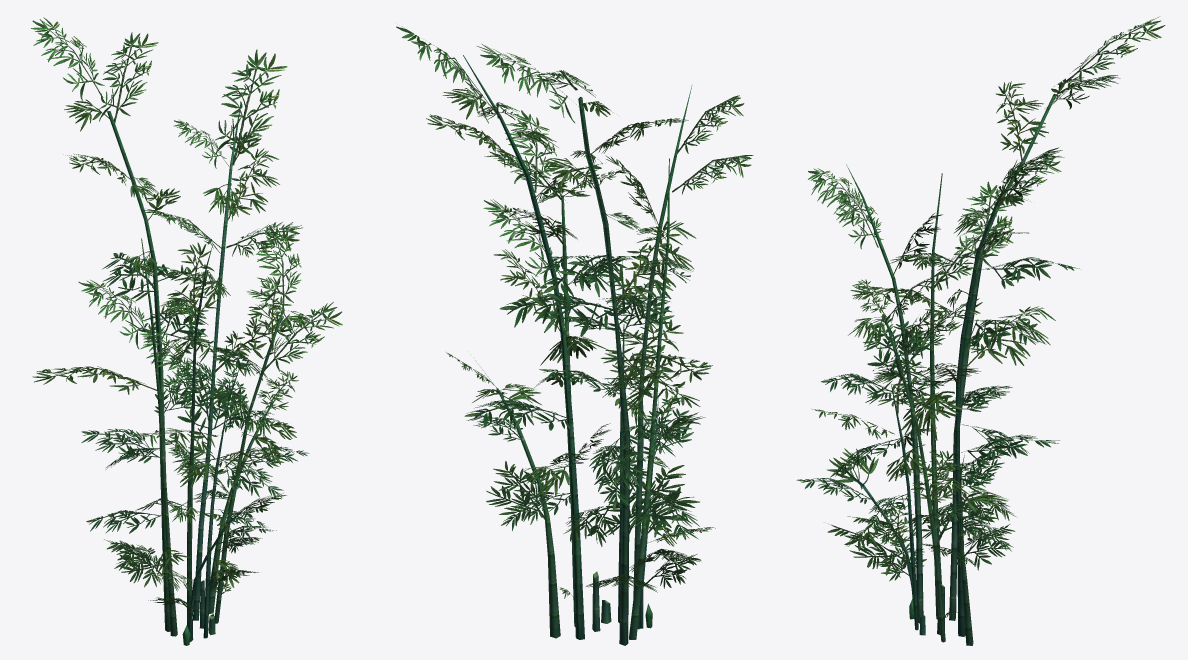
File: xzl_zhuzi03_jgc.FBX
The picture shows the model from 3 angles, left to right: view 1: azimuth 30°, elevation 25°; view 2: azimuth 150°, elevation 25°; view 3: azimuth 270°, elevation 25°; orthographic projection. The views are drawn at different scales.
Visible parts, largest first — view 1: xzl_zhuzi03_jgc; view 2: xzl_zhuzi03_jgc; view 3: xzl_zhuzi03_jgc.
Boxes of the visible parts, left/top/right/bottom form: xzl_zhuzi03_jgc: left=31, top=17, right=342, bottom=645; xzl_zhuzi03_jgc: left=396, top=26, right=753, bottom=645; xzl_zhuzi03_jgc: left=796, top=16, right=1165, bottom=645.
Bounding box in the file's own units: 3869 × 7635 × 4598.
